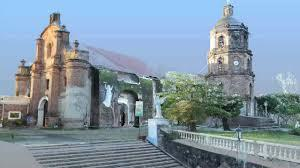Sta. Maria Church: (15, 12, 90, 128)
Unfinished Paint: (59, 86, 91, 117)
